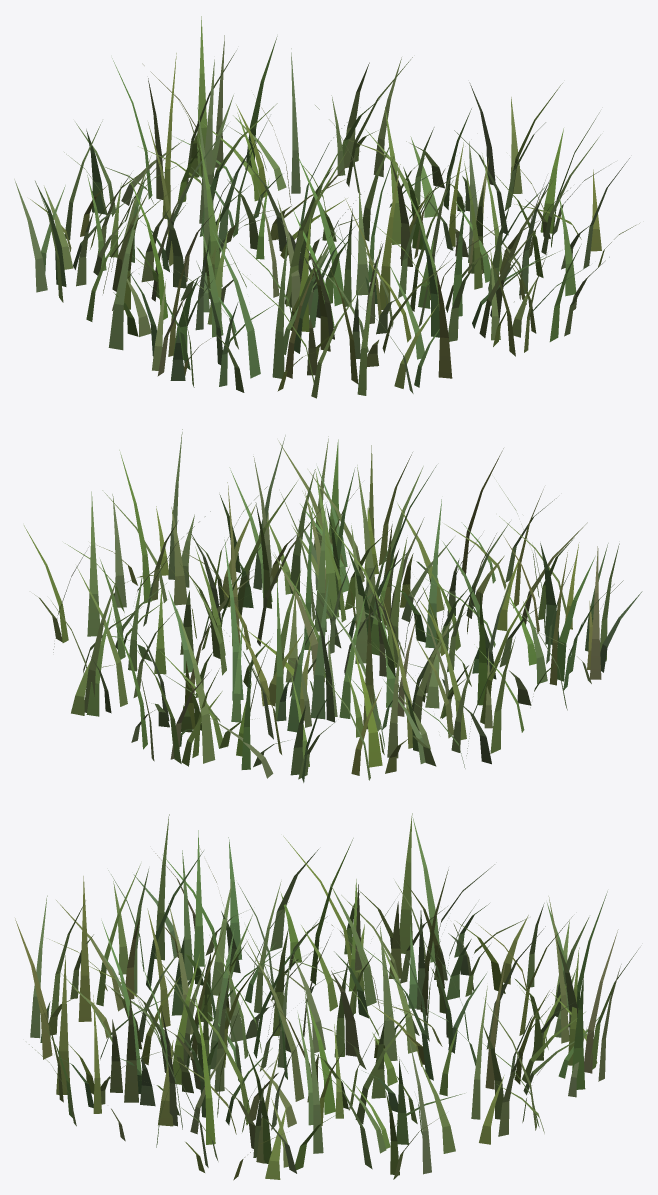
3 views of the same model, one above another, from view 1: azimuth 30°, elevation 25°; view 2: azimuth 150°, elevation 25°; view 3: azimuth 270°, elevation 25° (orthographic). The views are drawn at different scales.
Bounding box in the file's own units: 2.74 × 0.709 × 2.82.
